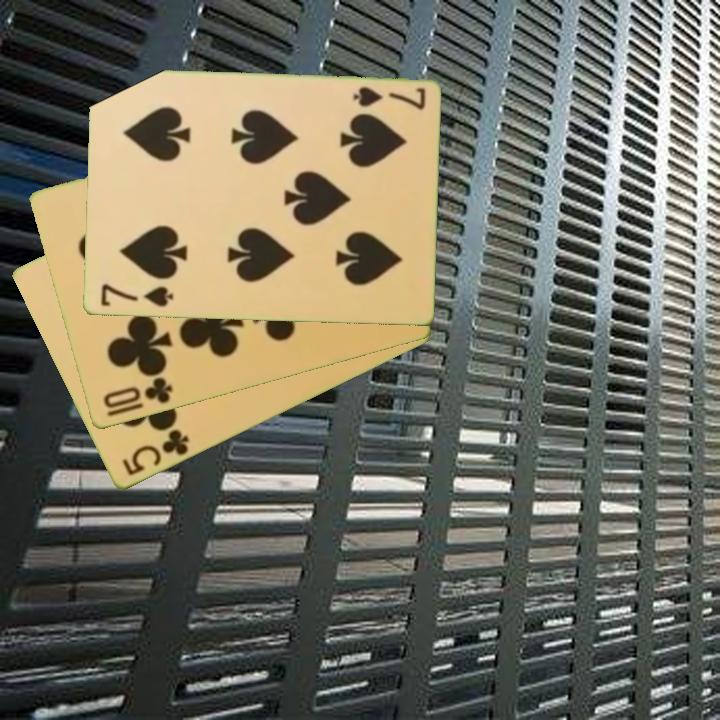10c: (99, 373, 176, 412)
5c: (118, 426, 192, 479)
7s: (97, 280, 176, 310), (349, 84, 428, 113)
